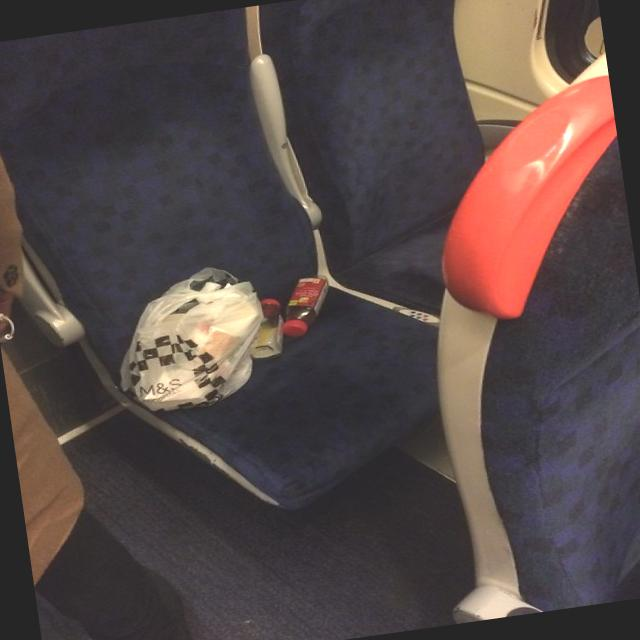Recycle: (117, 261, 278, 416), (245, 271, 336, 363)
